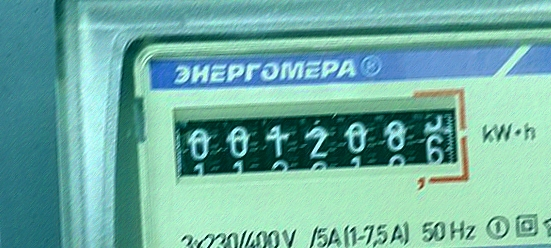0: (227, 119, 252, 158), (344, 116, 371, 152), (189, 122, 211, 160)
1: (268, 119, 287, 157)
2: (305, 121, 333, 158)
6: (423, 127, 448, 163)
8: (383, 115, 408, 152)
screen: (162, 75, 481, 212)
